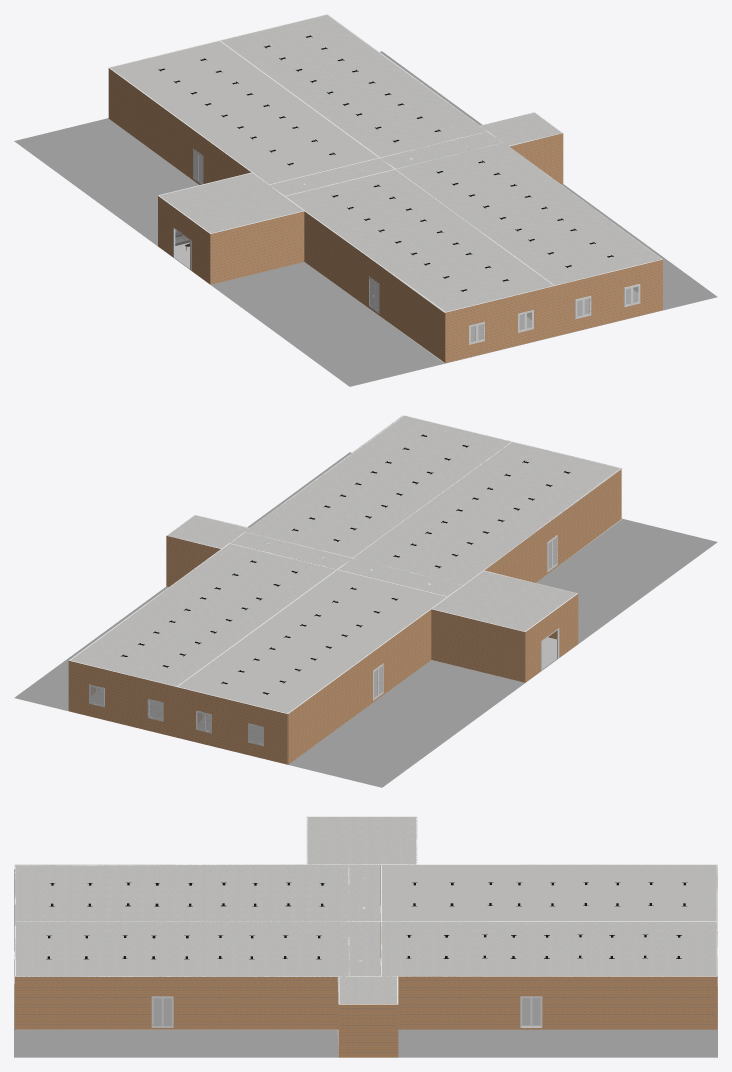
The model's file is salaexpo4.obj.
3 views of the same model, one above another, from view 1: azimuth 30°, elevation 25°; view 2: azimuth 150°, elevation 25°; view 3: azimuth 270°, elevation 25° (orthographic). The views are drawn at different scales.
Parts seen in each view (by area): view 1: ground_1, room_36_183, room_34_179, room_35_181, room_33_177, wall_17_100, wall_9_52, wall_16_94, wall_15_88, wall_2_10, room_30_171, room_31_173 (+3 smaller); view 2: ground_1, room_36_183, room_34_179, room_35_181, room_33_177, wall_9_52, wall_17_100, wall_28_160, wall_1_4, room_30_171, wall_12_70, room_31_173 (+4 smaller); view 3: room_36_183, room_34_179, room_35_181, ground_1, room_33_177, wall_18_106, wall_20_118, room_30_171, room_31_173, wall_7_40, room_32_175, room_35_180 (+1 smaller).
Boxes of the visible parts, left/top/right/bottom form: ground_1: left=14, top=51, right=717, bottom=386; room_36_183: left=110, top=40, right=381, bottom=184; room_34_179: left=286, top=169, right=553, bottom=312; room_35_181: left=396, top=143, right=662, bottom=285; room_33_177: left=223, top=15, right=487, bottom=156; wall_17_100: left=304, top=211, right=445, bottom=362; wall_9_52: left=108, top=68, right=251, bottom=184; wall_16_94: left=445, top=285, right=556, bottom=363; wall_15_88: left=556, top=259, right=662, bottom=335; wall_2_10: left=210, top=211, right=304, bottom=284; room_30_171: left=159, top=173, right=303, bottom=233; room_31_173: left=269, top=132, right=502, bottom=195; ground_1: left=14, top=452, right=717, bottom=787; room_36_183: left=174, top=569, right=446, bottom=713; room_34_179: left=353, top=442, right=622, bottom=584; room_35_181: left=244, top=415, right=511, bottom=557; room_33_177: left=70, top=543, right=336, bottom=685; wall_9_52: left=288, top=610, right=431, bottom=764; wall_17_100: left=484, top=469, right=621, bottom=582; wall_28_160: left=177, top=687, right=287, bottom=764; wall_1_4: left=431, top=609, right=525, bottom=682; room_30_171: left=432, top=571, right=576, bottom=631; wall_12_70: left=68, top=661, right=149, bottom=730; room_31_173: left=230, top=532, right=462, bottom=595; room_36_183: left=382, top=864, right=717, bottom=922; room_34_179: left=14, top=864, right=348, bottom=921; room_35_181: left=14, top=921, right=348, bottom=976; ground_1: left=14, top=869, right=717, bottom=1057; room_33_177: left=381, top=922, right=717, bottom=976; wall_18_106: left=398, top=976, right=717, bottom=1029; wall_20_118: left=14, top=976, right=338, bottom=1029; room_30_171: left=307, top=817, right=417, bottom=864; room_31_173: left=349, top=864, right=380, bottom=976; wall_7_40: left=338, top=1004, right=398, bottom=1057; room_32_175: left=337, top=976, right=397, bottom=1003; room_35_180: left=16, top=998, right=338, bottom=1029.
Size of the model in its own units: 2664 by 352 by 4208.
